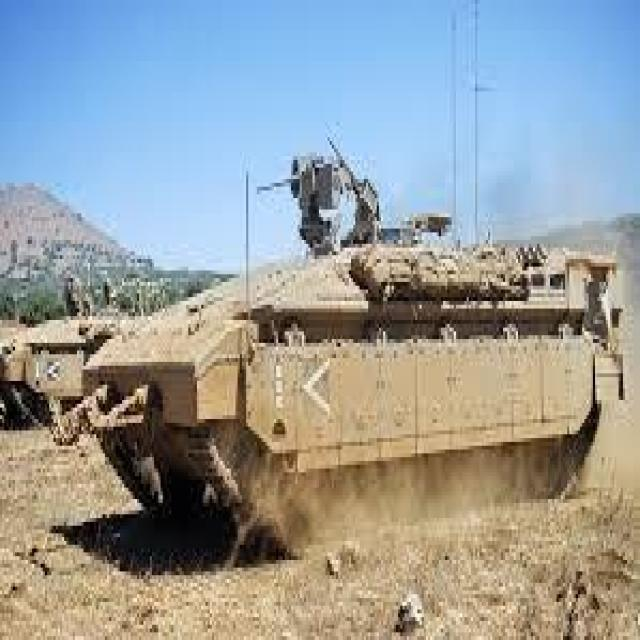Tanks: (88, 234, 623, 539), (0, 324, 83, 423)
